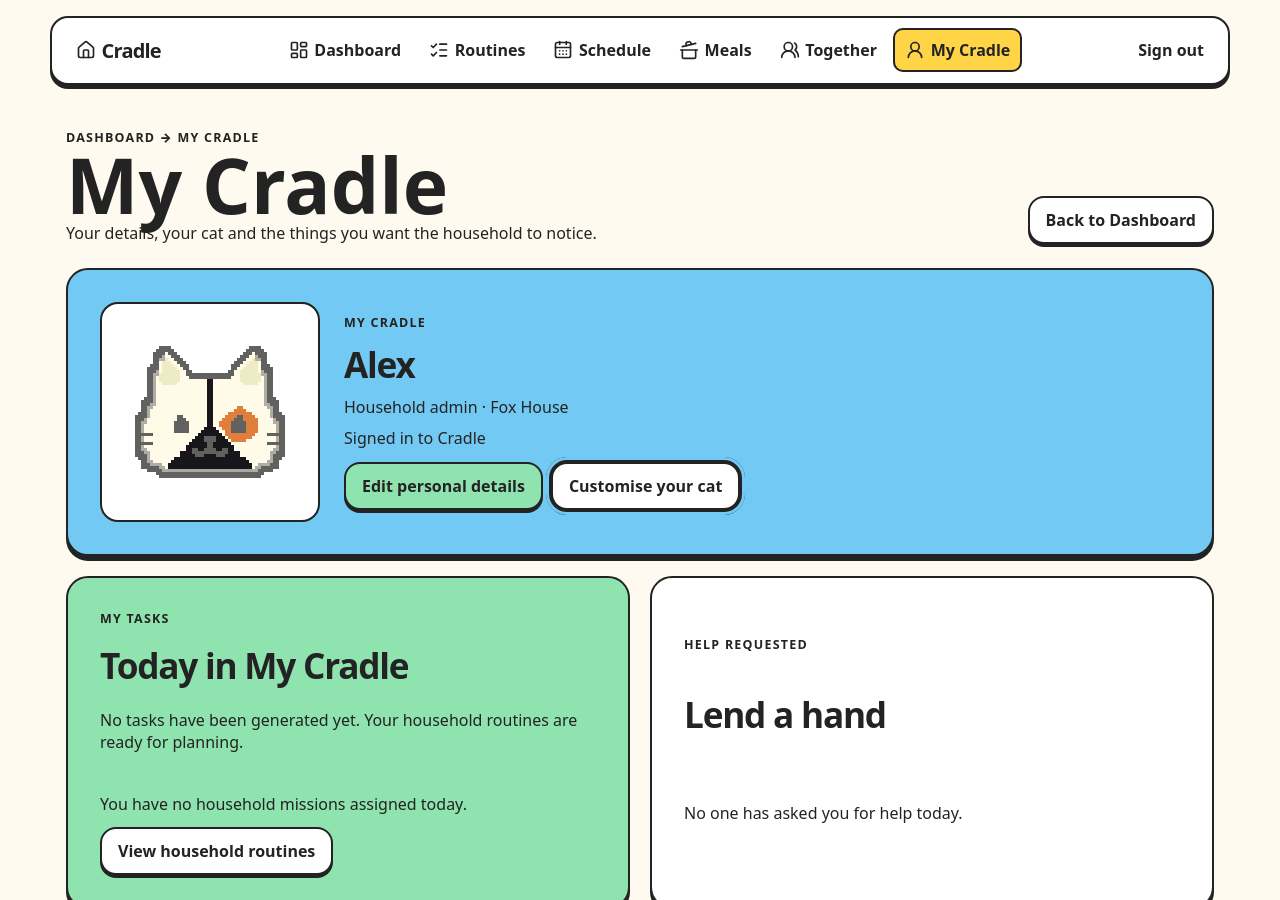
family and personal user journeys › renders /me with honest tasks, suggestion CTA and Dashboard return paths
The width and height of the screenshot is (1280, 900).
Expected: the heading "My Cradle" is shown, [66, 147, 448, 222]
Expected: the text "No tasks have been generated yet" is shown, [100, 709, 577, 753]
Click the button "Customise your cat": x=646, y=486 [551, 462, 740, 510]
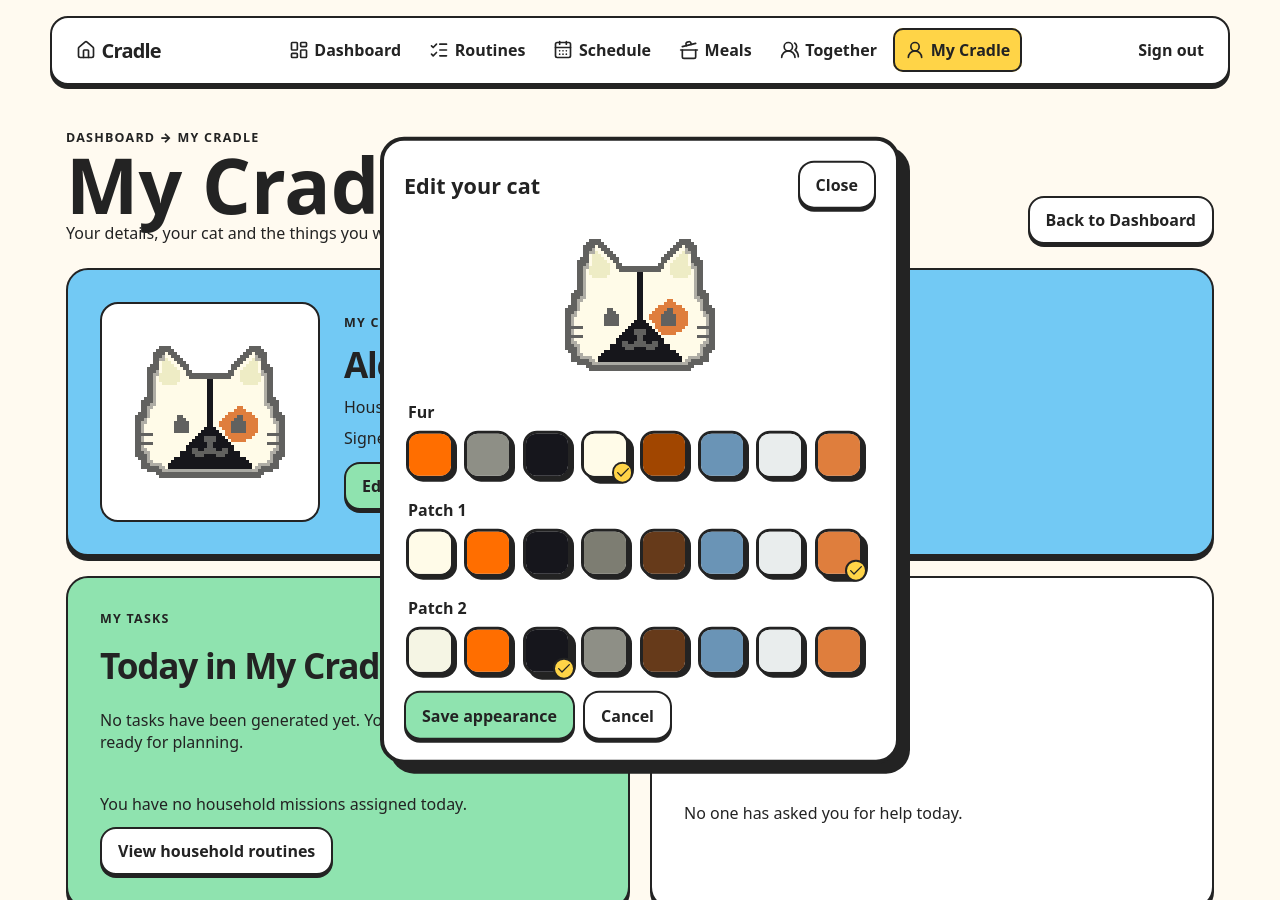
Now the dialog "Edit your cat" is shown, box [380, 137, 900, 763]
Press Escape
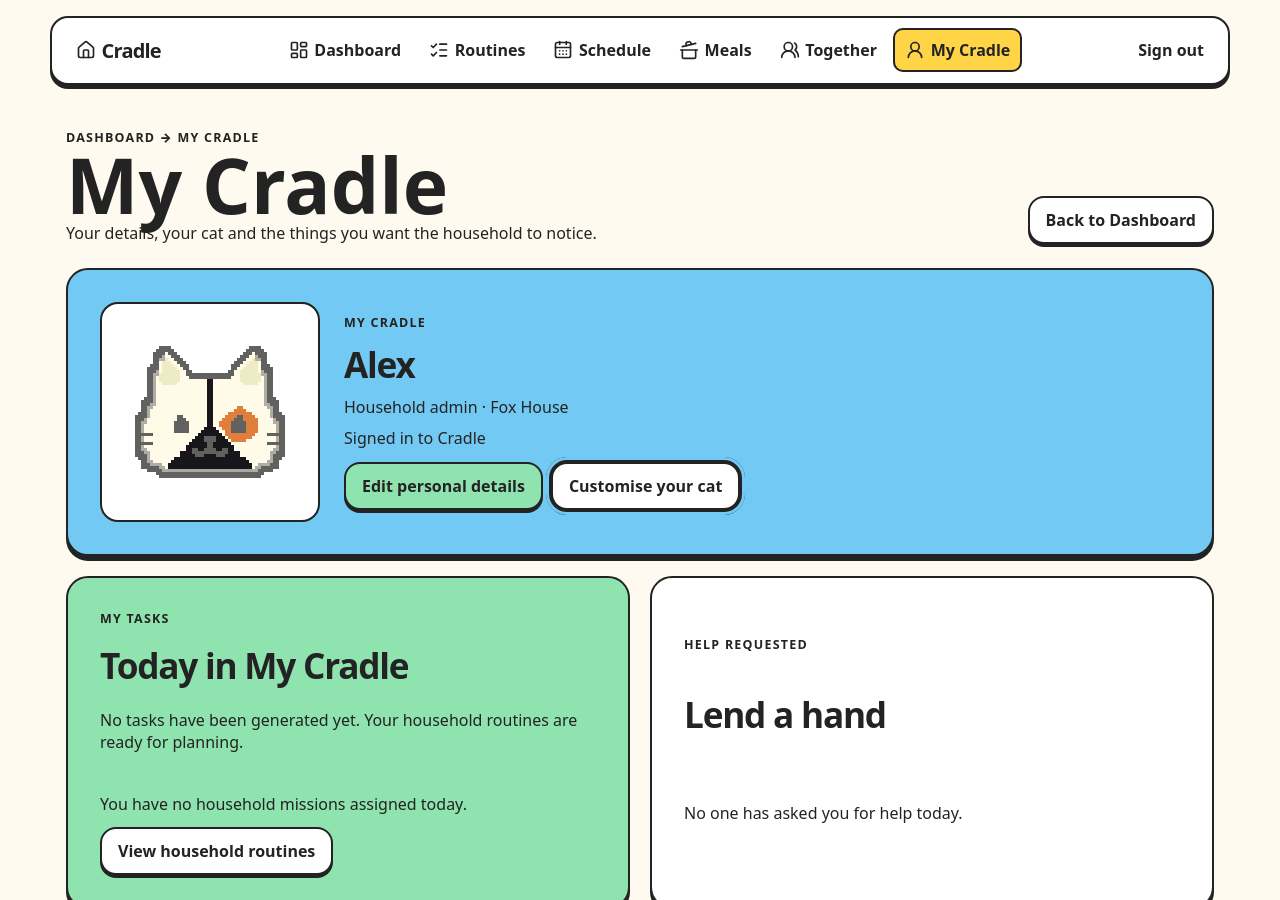
Now the heading "Edit your cat" is gone
